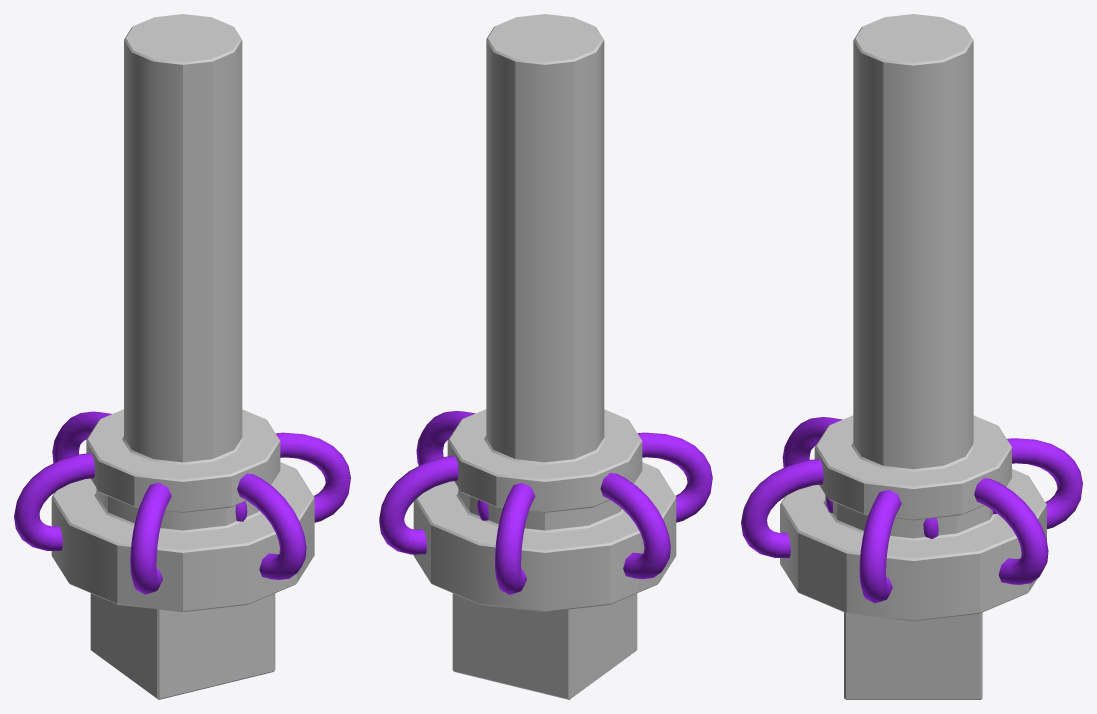
The model's file is former.obj.
The picture shows the model from 3 angles, left to right: view 1: azimuth 30°, elevation 25°; view 2: azimuth 150°, elevation 25°; view 3: azimuth 270°, elevation 25°; orthographic projection.
Visible parts, largest first — view 1: Cylinder.001, BézierCurve.009, BézierCurve.004, BézierCurve.005, BézierCurve.007, BézierCurve.008; view 2: Cylinder.001, BézierCurve.006, BézierCurve.009, BézierCurve.007, BézierCurve.008, BézierCurve.005; view 3: Cylinder.001, BézierCurve.004, BézierCurve.006, BézierCurve.008, BézierCurve.005, BézierCurve.007.
Boxes of the visible parts, box(x1,y1,x2,y2) form: Cylinder.001: box(51, 14, 314, 699); BézierCurve.009: box(14, 453, 95, 550); BézierCurve.004: box(237, 473, 306, 579); BézierCurve.005: box(275, 432, 350, 522); BézierCurve.007: box(130, 482, 171, 594); BézierCurve.008: box(52, 411, 111, 463); Cylinder.001: box(413, 14, 676, 699); BézierCurve.006: box(379, 455, 458, 554); BézierCurve.009: box(600, 473, 670, 579); BézierCurve.007: box(637, 432, 712, 522); BézierCurve.008: box(495, 483, 535, 594); BézierCurve.005: box(416, 410, 475, 465); Cylinder.001: box(780, 14, 1046, 699); BézierCurve.004: box(741, 459, 823, 557); BézierCurve.006: box(974, 478, 1048, 584); BézierCurve.008: box(1007, 438, 1082, 529); BézierCurve.005: box(859, 490, 901, 603); BézierCurve.007: box(782, 417, 842, 467).
Size of the model in its own units: 8.86 by 18.07 by 8.85.
